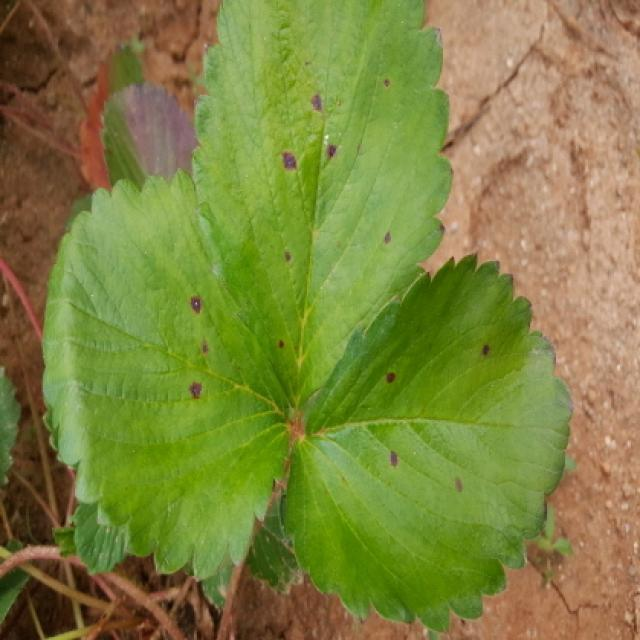Leaf Spot: (277, 250, 574, 633), (188, 0, 455, 421), (40, 169, 300, 580)
